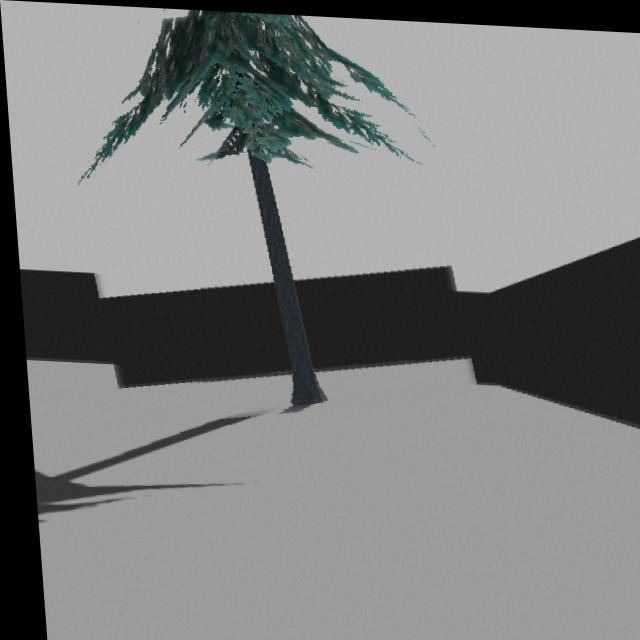tree: (72, 9, 419, 409)
